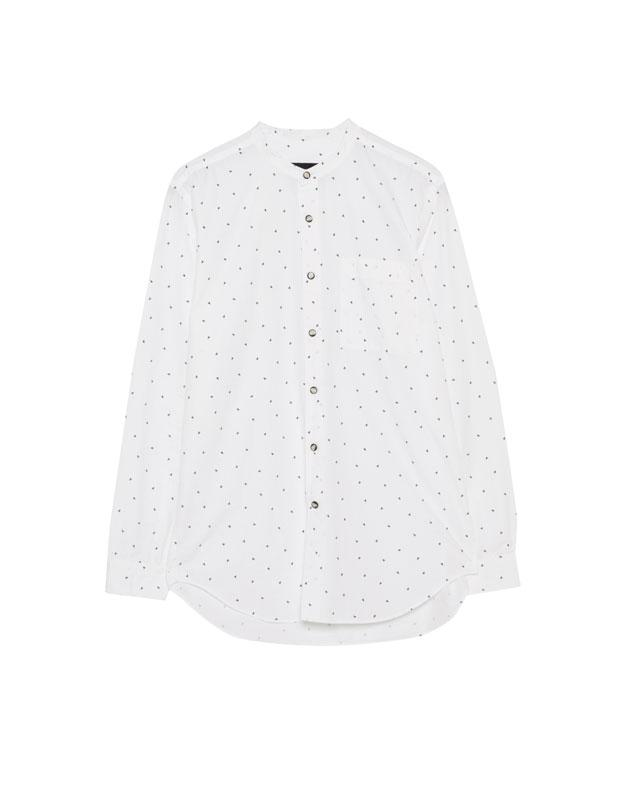teeshirt: (118, 126, 540, 681)
